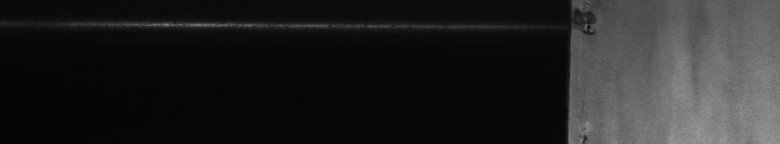hb: (580, 4, 603, 136)
